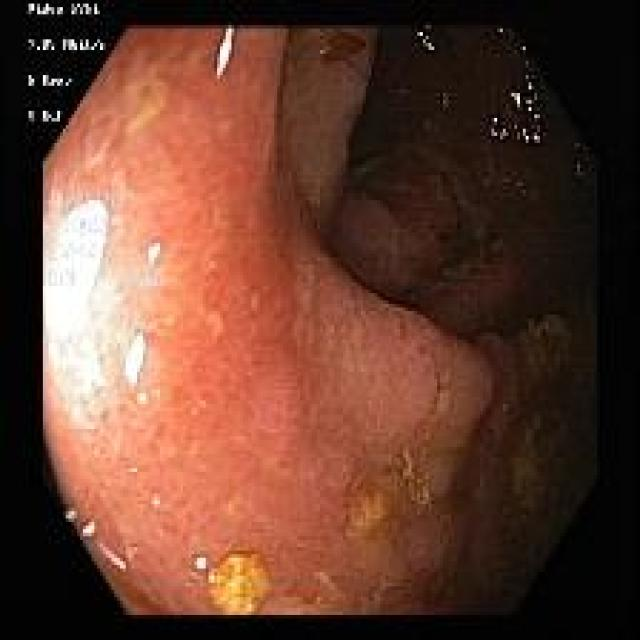ulcerative-colitis: (44, 28, 596, 615)
